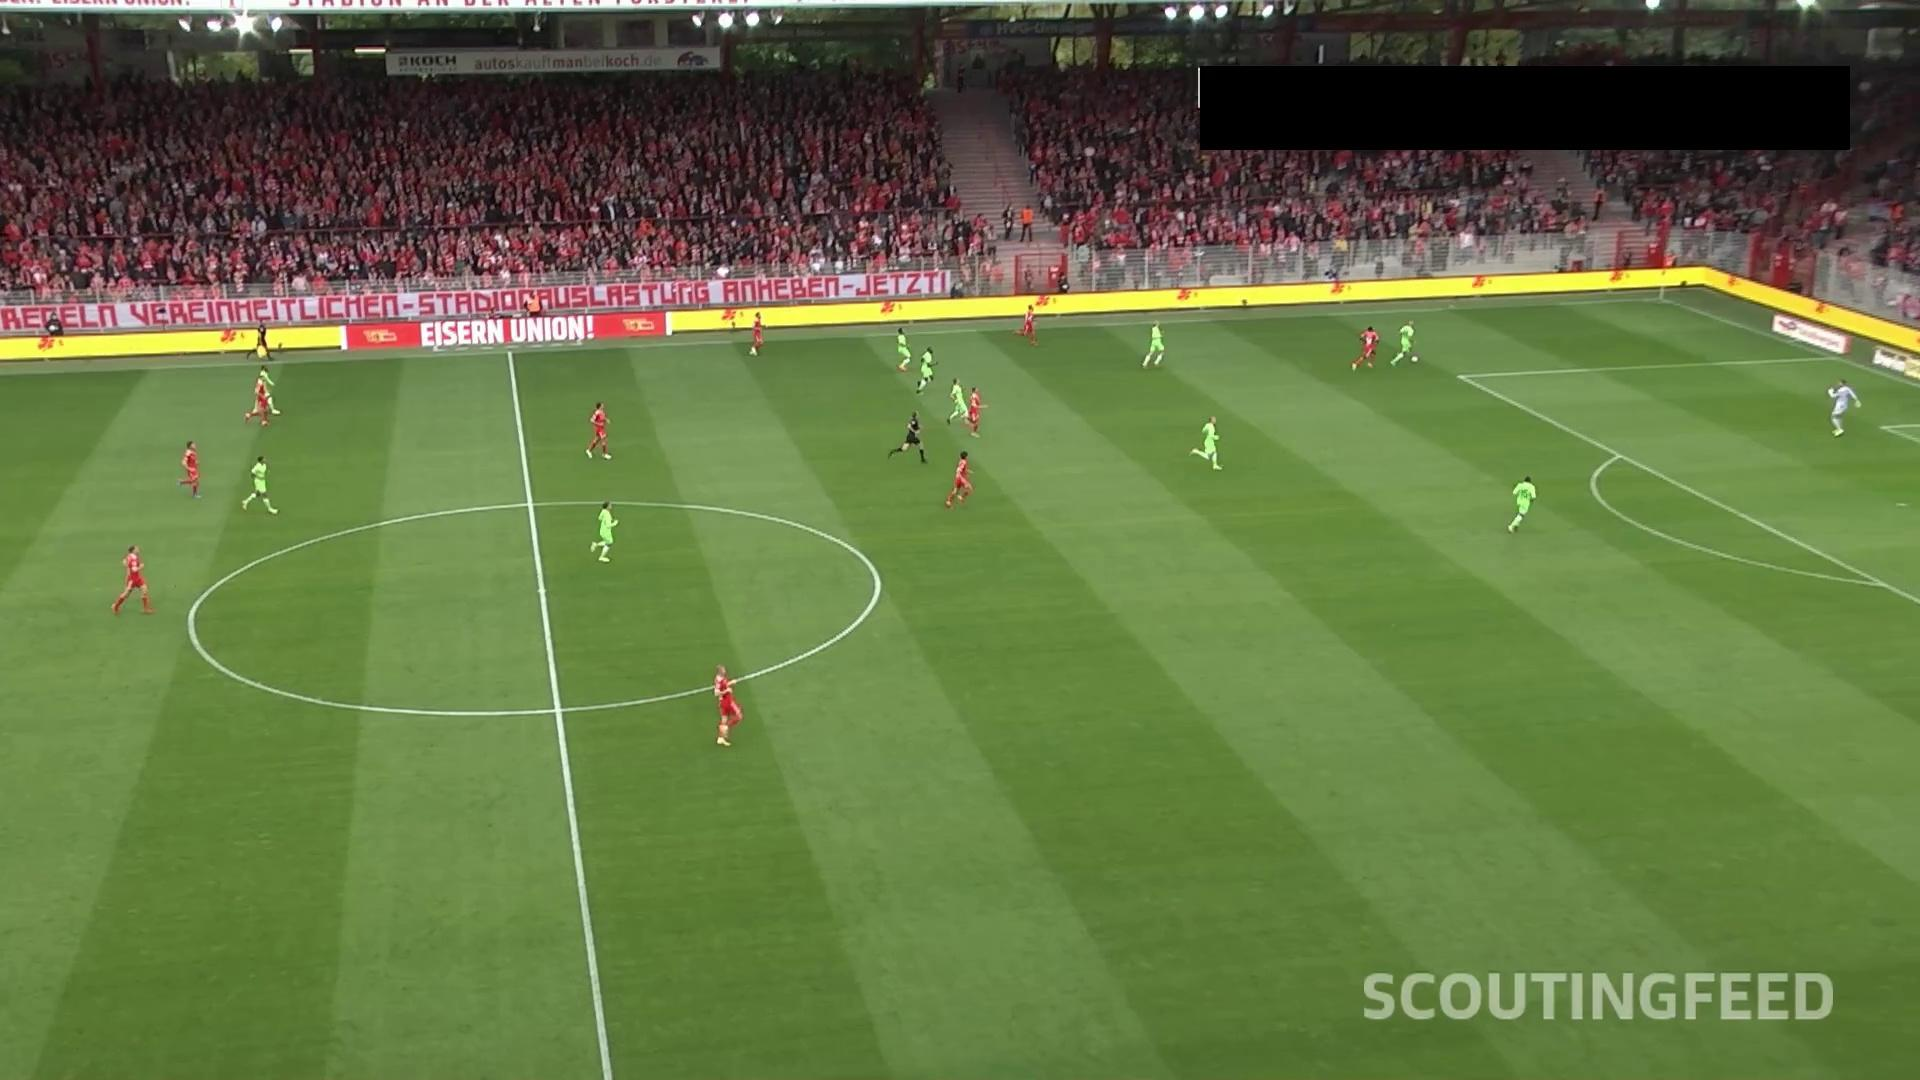Location-of-ball: (1394, 340, 1437, 380)
